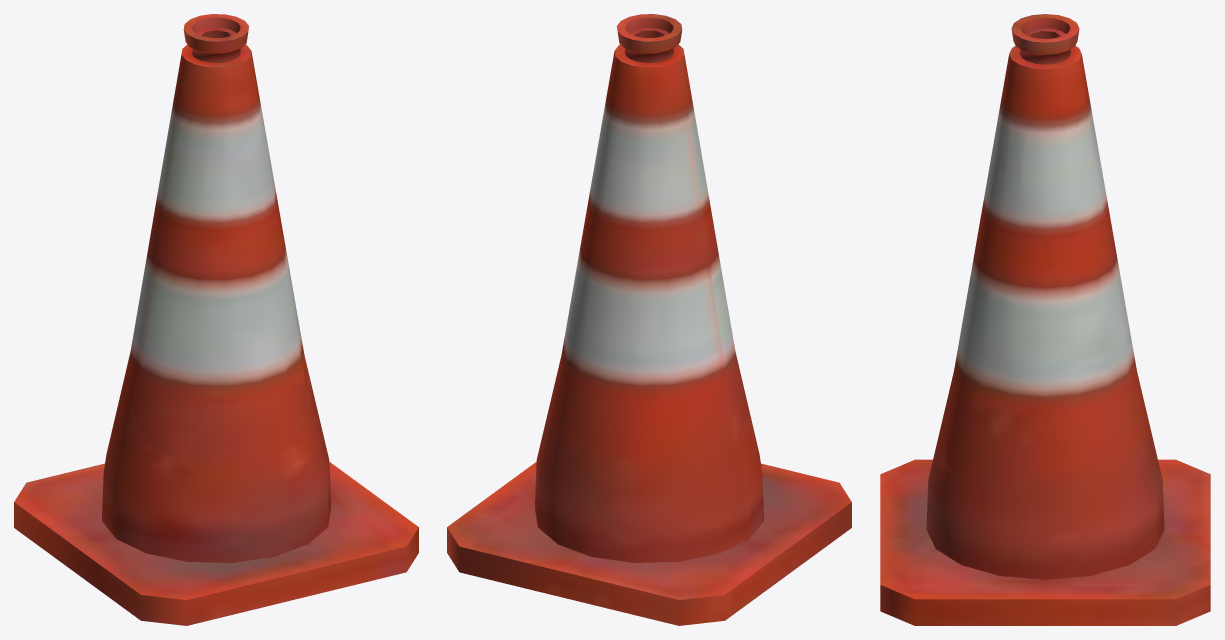
Rendered from SM_Traffic_Cone_03_10f732.glb.
The picture shows the model from 3 angles, left to right: view 1: azimuth 30°, elevation 25°; view 2: azimuth 150°, elevation 25°; view 3: azimuth 270°, elevation 25°; orthographic projection. The views are drawn at different scales.
Size of the model in its own units: 0.359 by 0.6326 by 0.359.
Materials: 1 (1 with a texture image).
